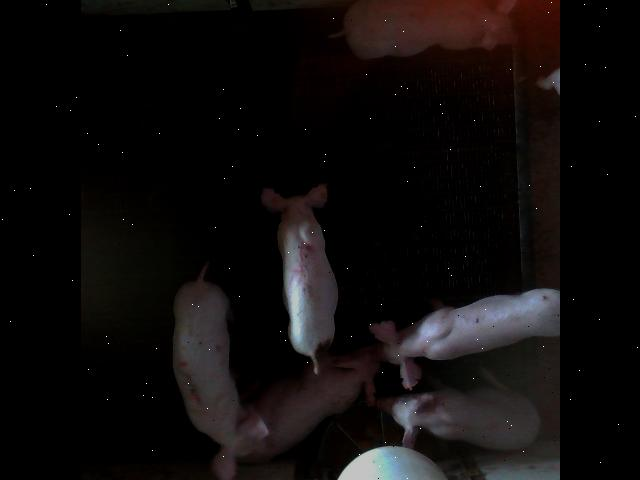pig-3: (171, 265, 267, 480)
pig-4: (329, 0, 516, 59)
pig-5: (260, 184, 337, 374)
